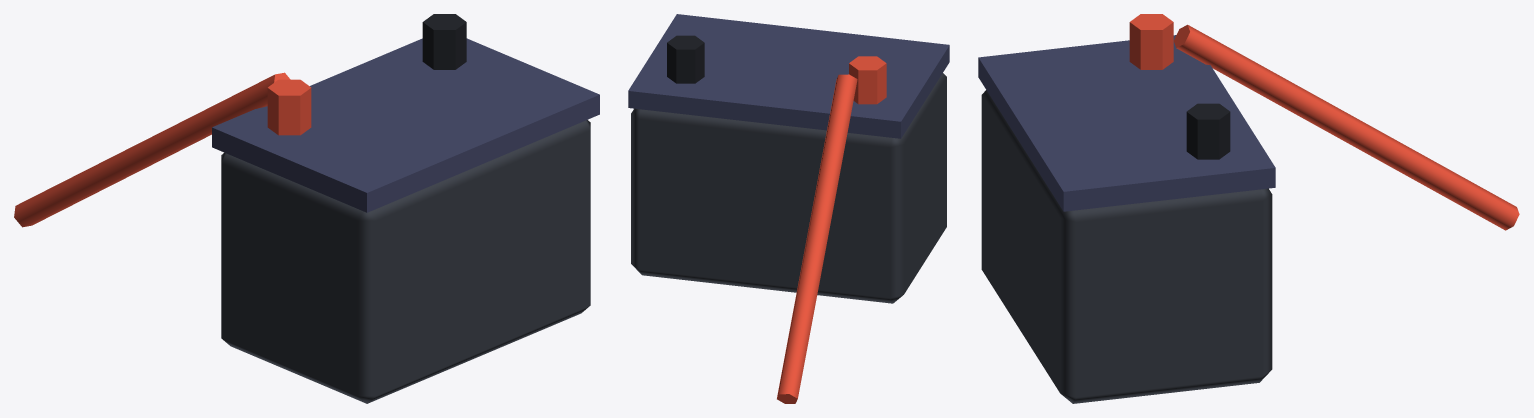
Rendered from station_intake_ausstattung_2_1.glb.
The picture shows the model from 3 angles, left to right: view 1: azimuth 30°, elevation 25°; view 2: azimuth 150°, elevation 25°; view 3: azimuth 270°, elevation 25°; orthographic projection. The views are drawn at different scales.
Parts seen in each view (by area): view 1: station_intake_ausstattung_2_1; view 2: station_intake_ausstattung_2_1; view 3: station_intake_ausstattung_2_1.
Boxes of the visible parts, left/top/right/bottom form: station_intake_ausstattung_2_1: left=14, top=14, right=599, bottom=403; station_intake_ausstattung_2_1: left=628, top=14, right=949, bottom=403; station_intake_ausstattung_2_1: left=978, top=14, right=1519, bottom=403.
Bounding box in the file's own units: 0.3824 × 0.26 × 0.4929.
